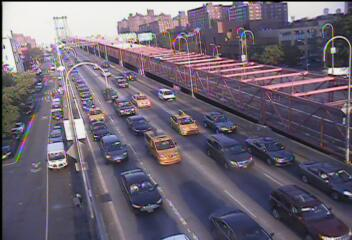neg: (65, 187, 90, 220), (1, 140, 14, 157)
